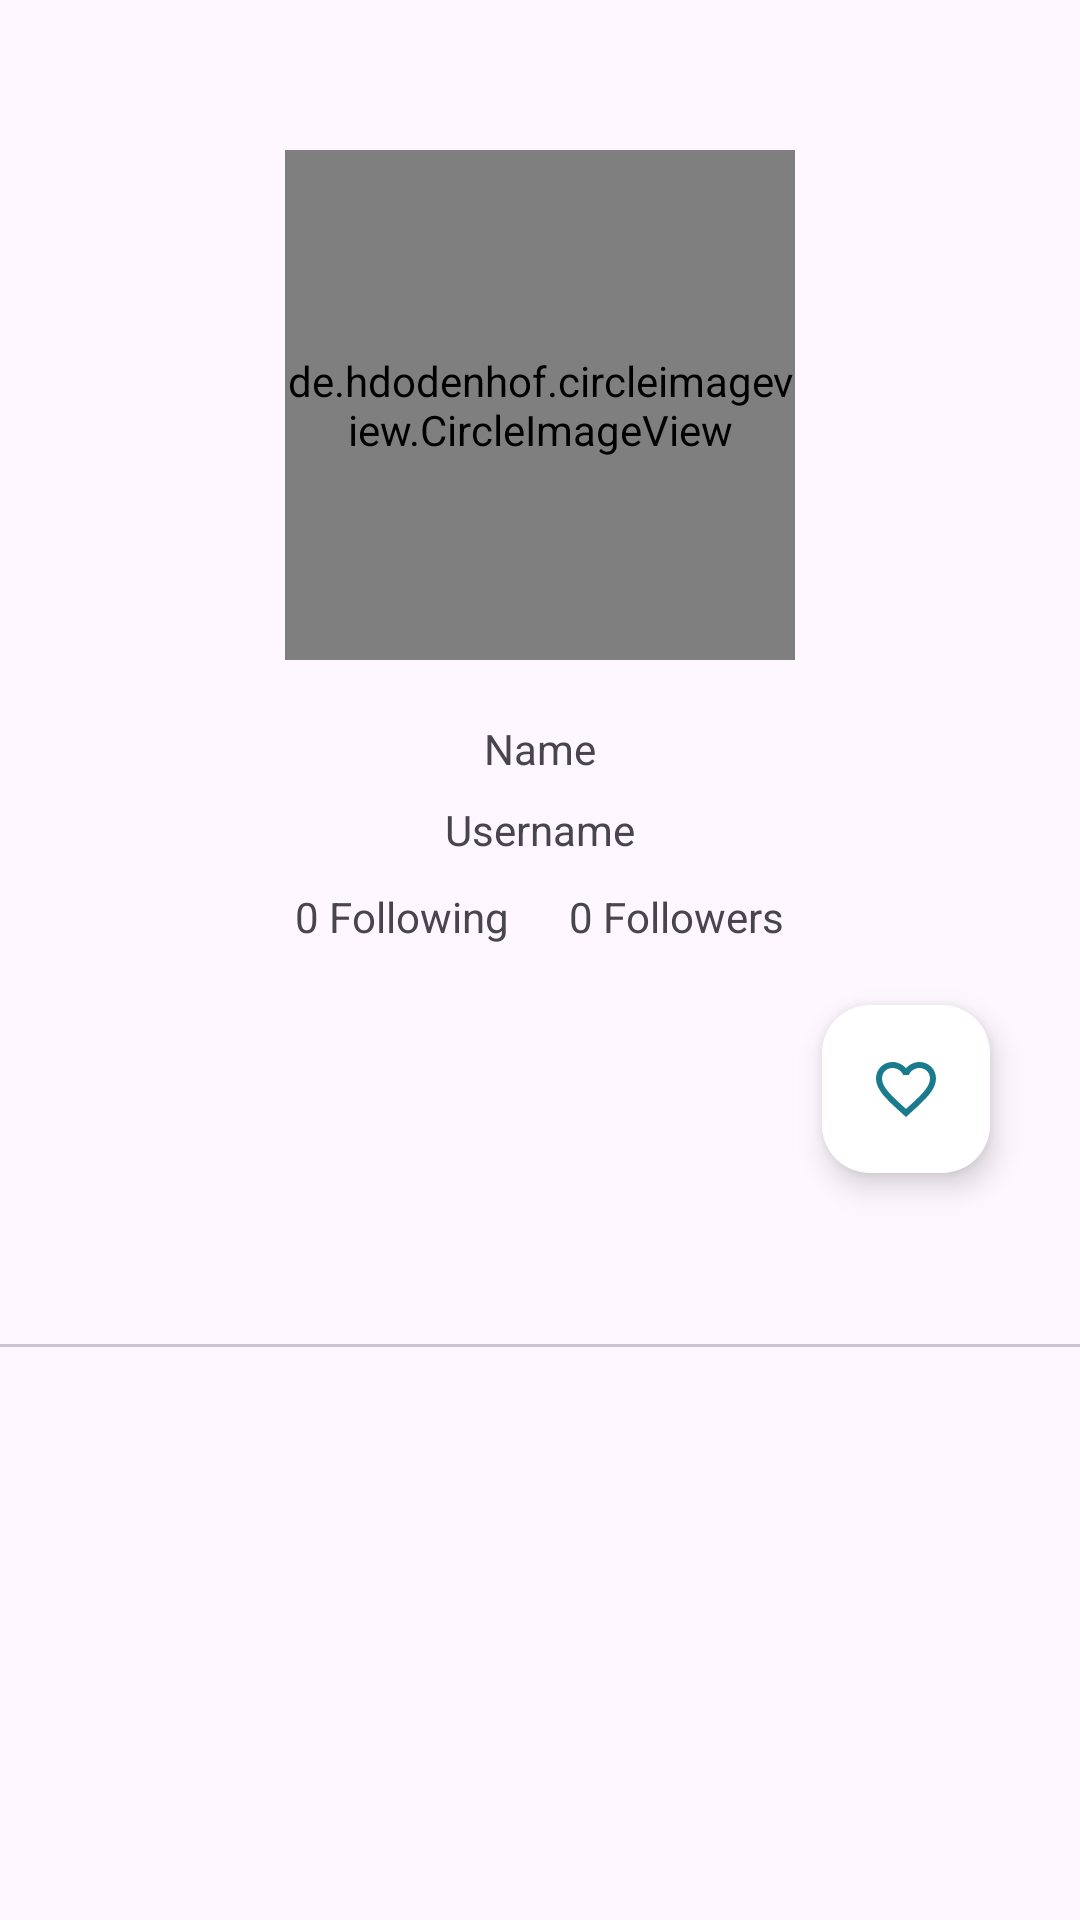

Where icons sit on this 1080×1920 app screen, as (x1, y1, x2, y2):
favorite border: (822, 1005, 990, 1173)
